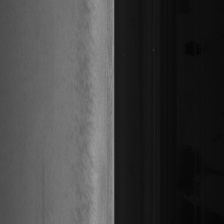silk_spot: (74, 95, 96, 169)
